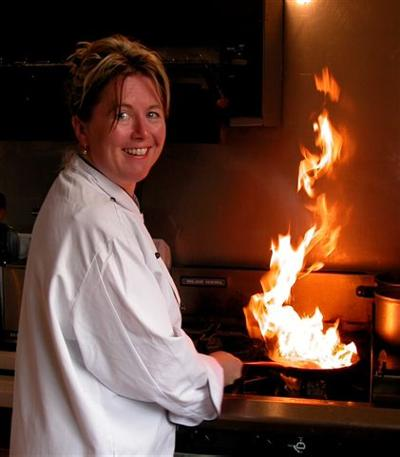person: (9, 40, 244, 457)
